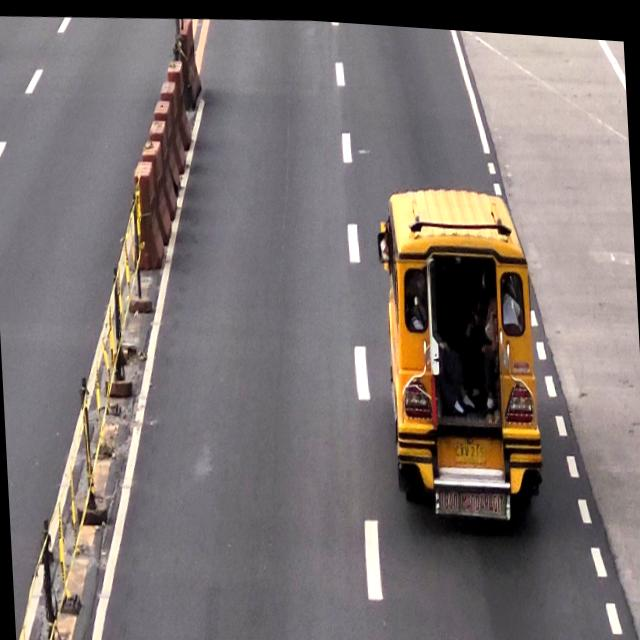Jeep: (380, 178, 532, 505)
License-Plate: (454, 434, 486, 458)
